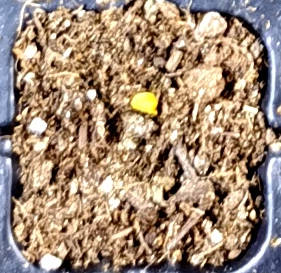pepper seed: (50, 33, 209, 149)
